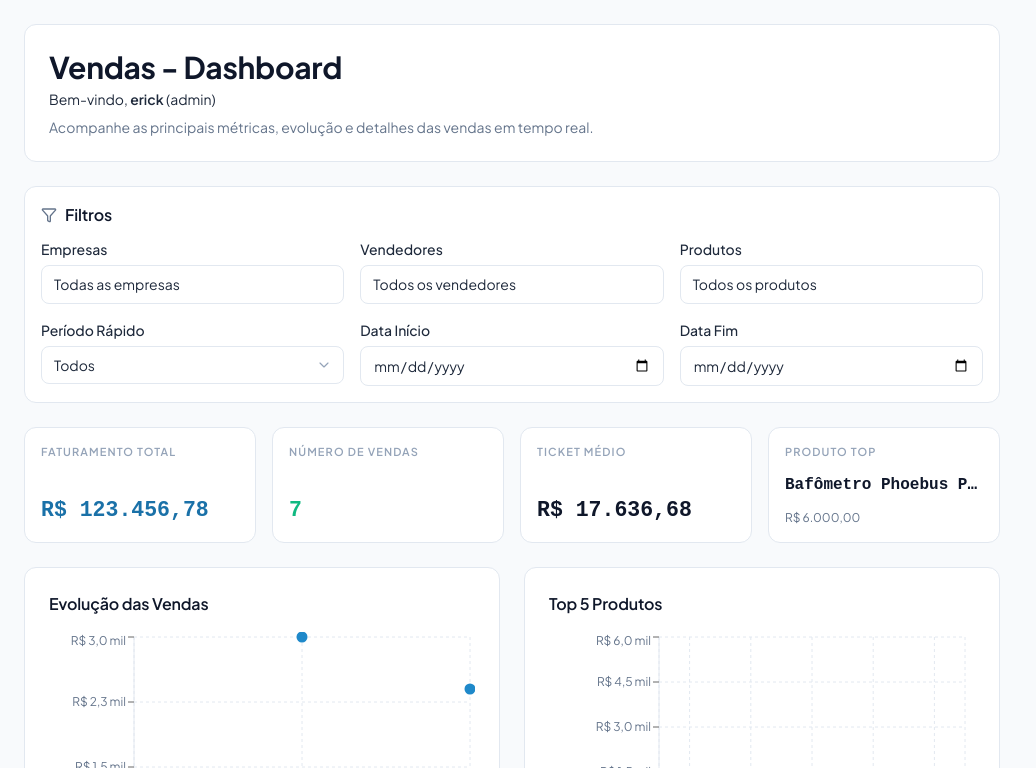
Test case: recorte que os filtros de Vendas mandam › digitar uma data leva o preset para personalizado e a data ao recorte
Type "2026-02-01" into the date field labelled "Data Início" at (512, 366), box [360, 346, 664, 386]
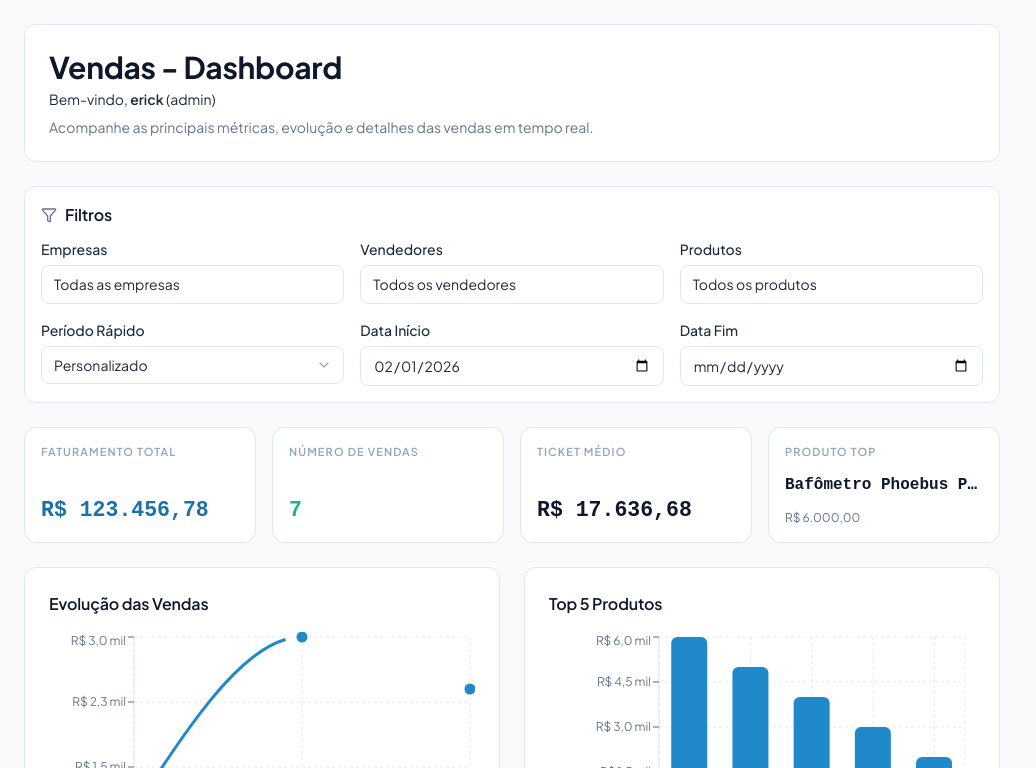
Now the dropdown labelled "Período Rápido" shows "Personalizado", box [41, 346, 344, 384]
